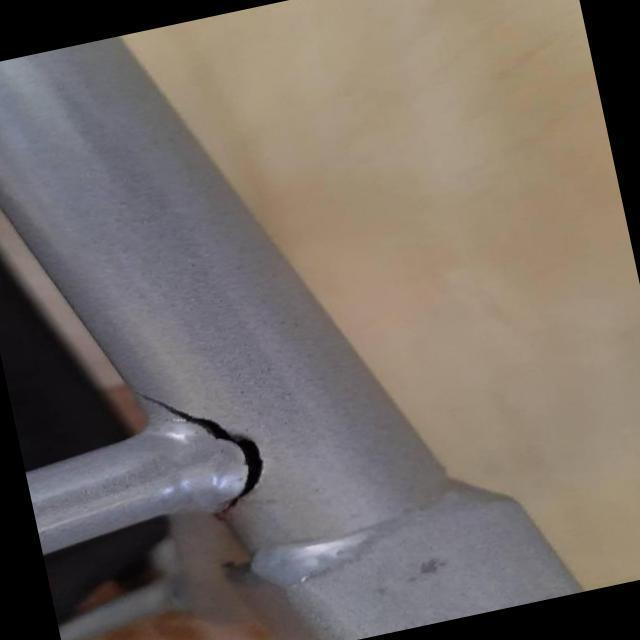defect: (128, 388, 275, 527)
